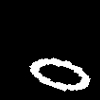chain: (29, 58, 89, 90)
